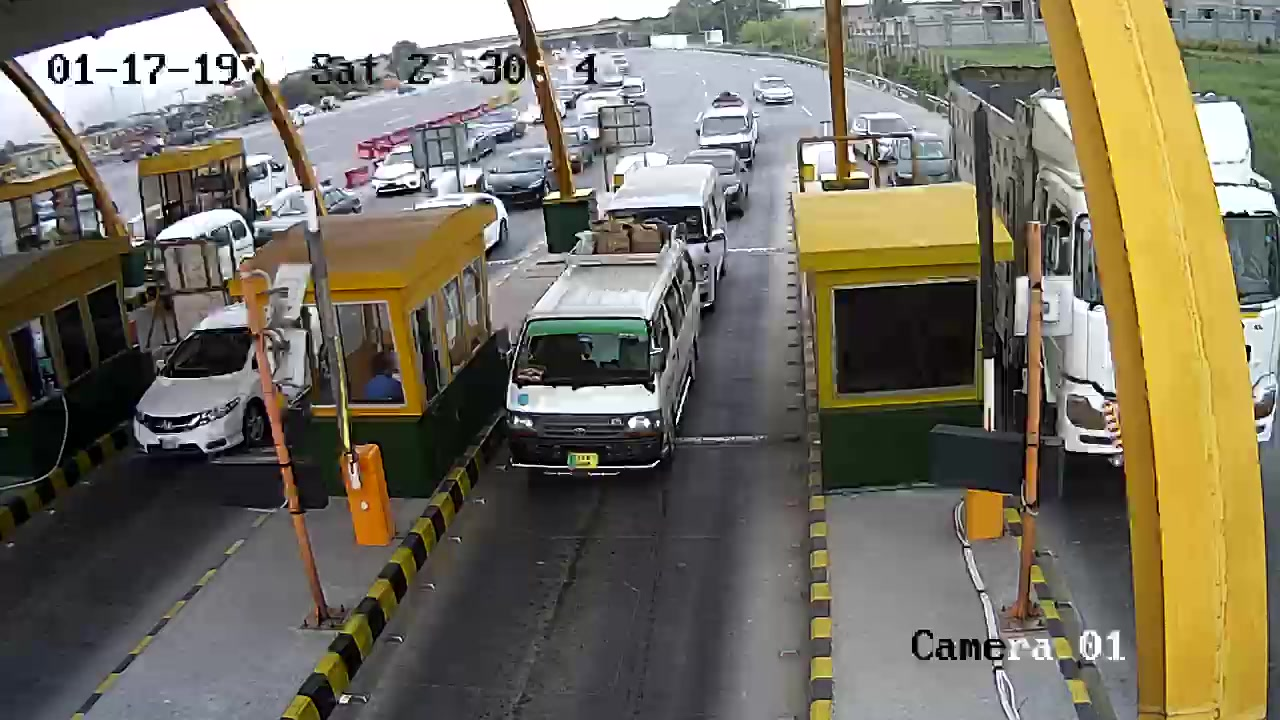F2: (499, 221, 714, 479)
